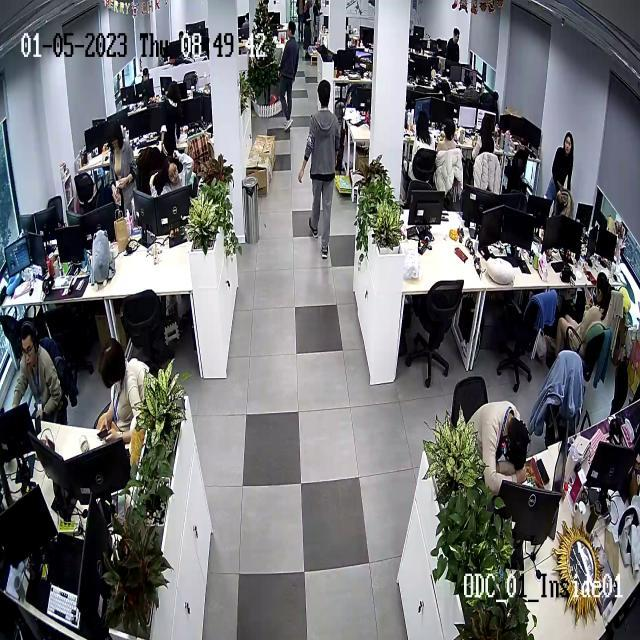person: (297, 79, 341, 259), (94, 338, 150, 448), (9, 322, 64, 425), (470, 401, 532, 491), (555, 273, 612, 358), (107, 121, 138, 212), (434, 118, 464, 202), (472, 114, 502, 195), (279, 19, 300, 130), (149, 147, 194, 195), (550, 131, 575, 199), (160, 82, 180, 152), (446, 27, 461, 68)
